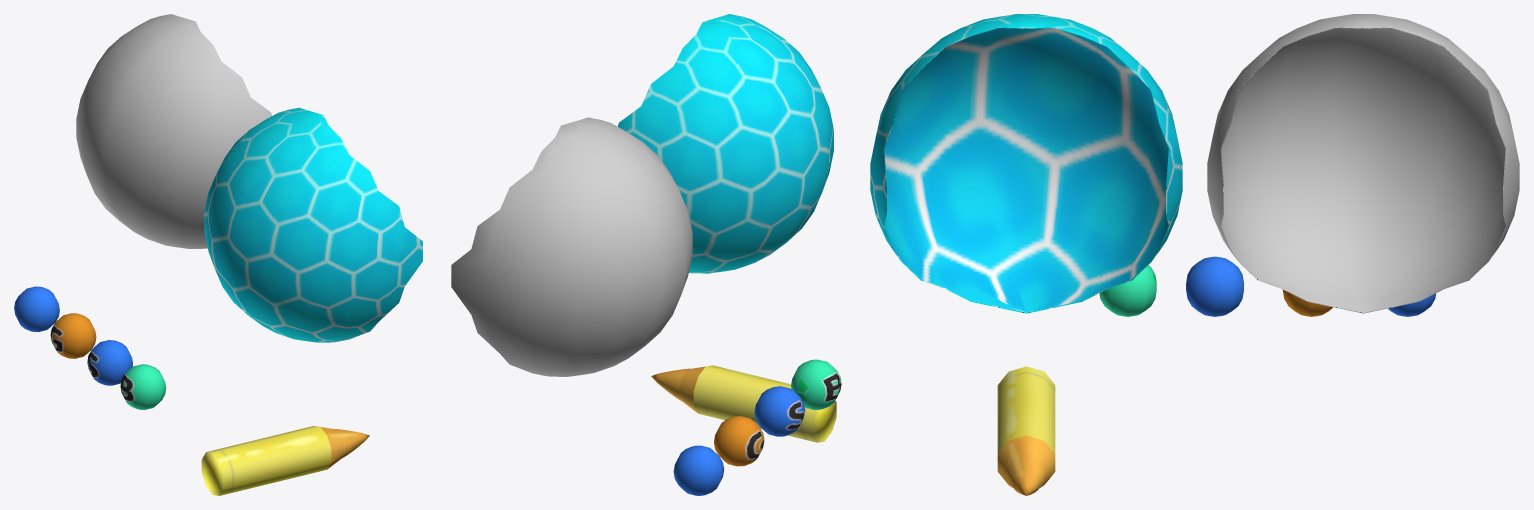
Rendered from MD_item.fbx.
3 renders of one model, left to right at view 1: azimuth 30°, elevation 25°; view 2: azimuth 150°, elevation 25°; view 3: azimuth 270°, elevation 25°, orthographic. The views are drawn at different scales.
Parts seen in each view (by area): view 1: Shield, Shield1, PlayerShot2, Shot2, Shot3, Shot4, Shot1; view 2: Shield1, Shield, PlayerShot2, Shot1, Shot2, Shot3, Shot4; view 3: Shield, Shield1, PlayerShot2, Shot1, Shot4.
Part boxes in pixels (bbox=[...]): Shield: bbox=[204, 107, 422, 342]; Shield1: bbox=[76, 14, 271, 248]; PlayerShot2: bbox=[201, 426, 369, 495]; Shot2: bbox=[50, 313, 96, 358]; Shot3: bbox=[14, 286, 59, 332]; Shot4: bbox=[120, 364, 166, 409]; Shot1: bbox=[87, 340, 132, 385]; Shield1: bbox=[451, 117, 692, 376]; Shield: bbox=[618, 14, 833, 273]; PlayerShot2: bbox=[651, 365, 836, 442]; Shot1: bbox=[754, 386, 804, 436]; Shot2: bbox=[714, 416, 764, 466]; Shot3: bbox=[673, 445, 724, 495]; Shot4: bbox=[791, 359, 841, 409]; Shield: bbox=[870, 14, 1182, 313]; Shield1: bbox=[1207, 14, 1519, 313]; PlayerShot2: bbox=[997, 366, 1055, 495]; Shot1: bbox=[1186, 256, 1243, 316]; Shot4: bbox=[1099, 265, 1156, 316].
Bounding box in the file's own units: 10.41 × 16.86 × 21.36.
